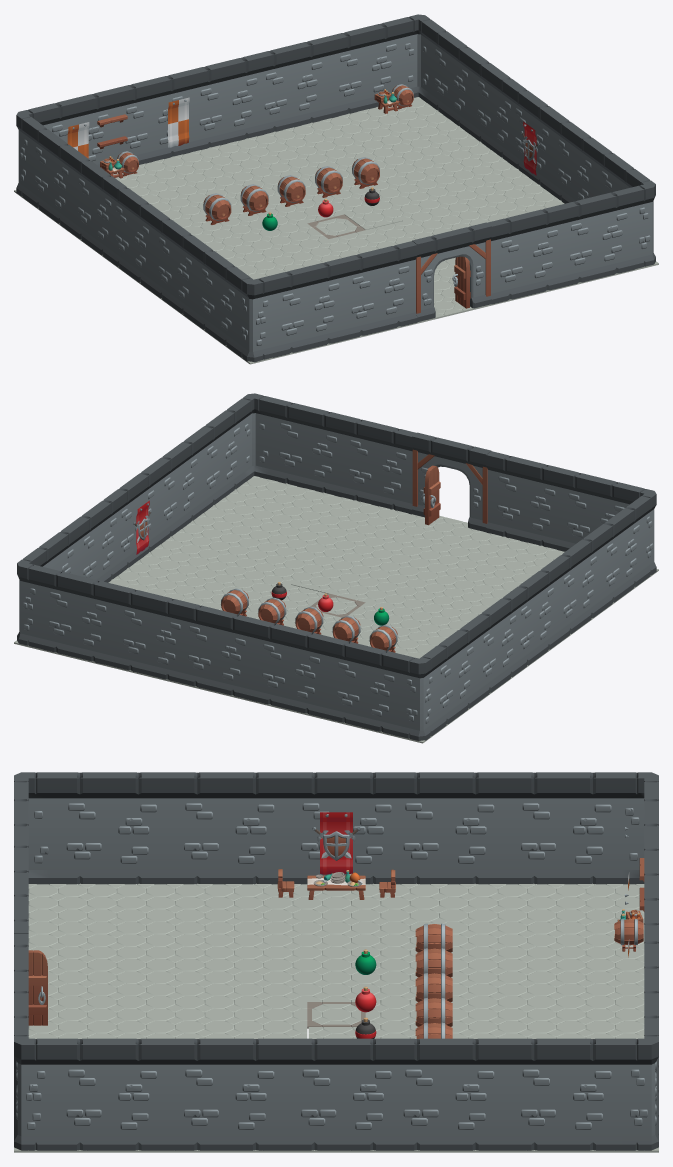
File: floor2.glb
3 views of the same model, one above another, from view 1: azimuth 30°, elevation 25°; view 2: azimuth 150°, elevation 25°; view 3: azimuth 270°, elevation 25° (orthographic). The views are drawn at different scales.
Parts seen in each view (by area): view 1: wall.008, wall.007, wall.004, wall.009, wall.005, wall.006, wall.001, wall.003, wall_doorway_scaffold, wall.014, wall.015, wall.018 (+80 smaller); view 2: wall.001, wall.002, wall.003, wall.004, wall.007, wall.006, wall.005, wall.009, wall.008, wall_doorway_scaffold, wall.015, wall.014 (+74 smaller); view 3: wall.013, wall.031, wall.010, wall.014, wall.015, wall.011, wall.018, wall.016, wall.012, wall.017, wall_corner.001, wall_corner.003 (+96 smaller).
Boxes of the visible parts, x1,y1,x2,y2 form: wall.008: (268, 258, 347, 357); wall.007: (487, 205, 565, 304); wall.004: (251, 37, 330, 136); wall.009: (340, 241, 417, 340); wall.005: (186, 53, 265, 152); wall.006: (559, 188, 635, 286); wall.001: (325, 19, 404, 118); wall.003: (111, 71, 190, 164); wall_doorway_scaffold: (412, 222, 491, 322); wall.014: (193, 242, 245, 353); wall.015: (27, 120, 78, 231); wall.018: (150, 211, 202, 321); wall.001: (37, 567, 116, 666); wall.002: (325, 637, 404, 736); wall.003: (251, 619, 330, 718); wall.004: (112, 585, 191, 684); wall.007: (337, 415, 416, 514); wall.006: (268, 398, 343, 496); wall.005: (177, 603, 255, 700); wall.009: (486, 451, 562, 549); wall.008: (556, 468, 635, 551); wall_doorway_scaffold: (412, 432, 491, 532); wall.015: (427, 621, 479, 732); wall.014: (594, 499, 645, 610); wall.013: (168, 1038, 285, 1150); wall.031: (50, 1038, 167, 1150); wall.010: (505, 1038, 622, 1150); wall.014: (50, 772, 167, 884); wall.015: (505, 772, 622, 884); wall.011: (387, 1038, 504, 1150); wall.018: (168, 772, 285, 884); wall.016: (387, 772, 504, 884); wall.012: (285, 1038, 402, 1150); wall.017: (285, 772, 402, 884); wall_corner.001: (622, 1029, 658, 1150); wall_corner.003: (14, 1029, 50, 1150).
Size of the model in its own units: 44.03 by 10.24 by 44.
Materials: 17 (16 with a texture image).
